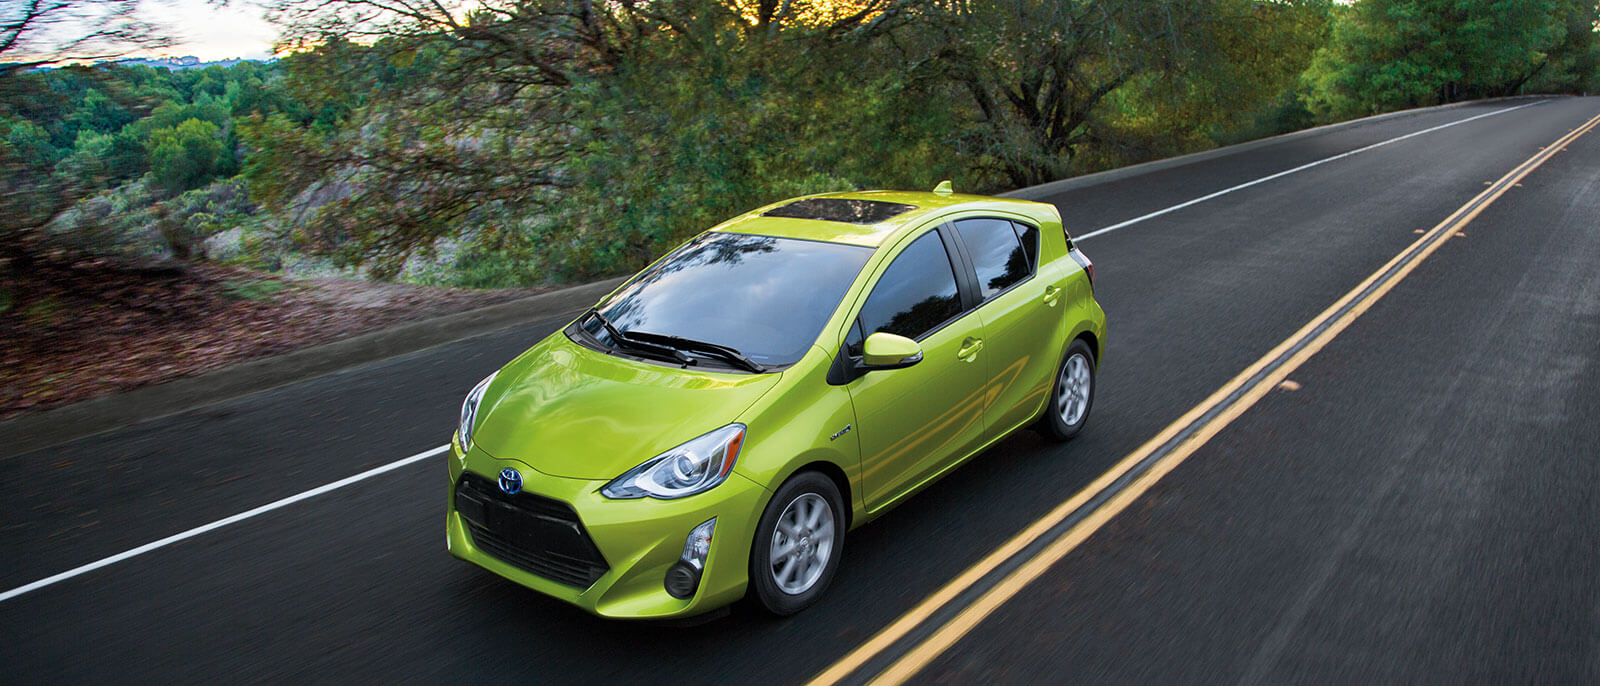Toyota Prius: (442, 170, 1108, 624)
